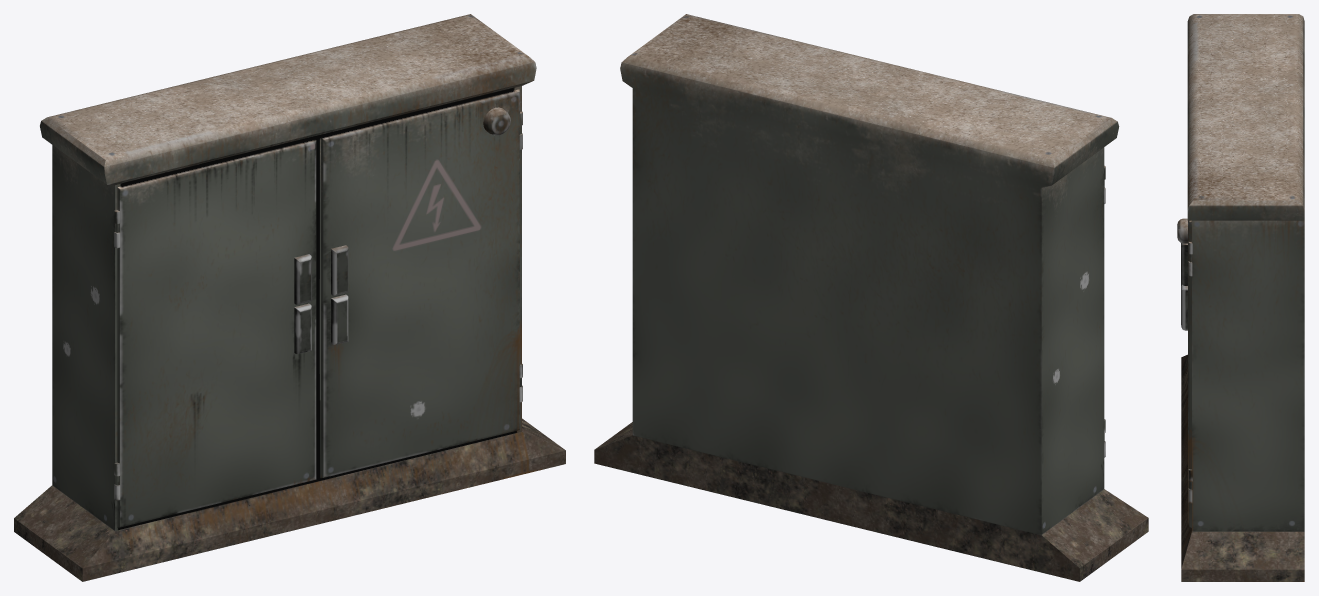
The model's file is Electrical-box.glb.
The picture shows the model from 3 angles, left to right: view 1: azimuth 30°, elevation 25°; view 2: azimuth 150°, elevation 25°; view 3: azimuth 270°, elevation 25°; orthographic projection. The views are drawn at different scales.
Visible parts, largest first — view 1: g ElectricalBox; view 2: g ElectricalBox; view 3: g ElectricalBox.
Part boxes in pixels (bbox=[...]): g ElectricalBox: bbox=[14, 14, 565, 581]; g ElectricalBox: bbox=[594, 14, 1148, 581]; g ElectricalBox: bbox=[1177, 14, 1304, 581].
Size of the model in its own units: 5.76 by 4.68 by 1.46.
1 material, 1 textured.
